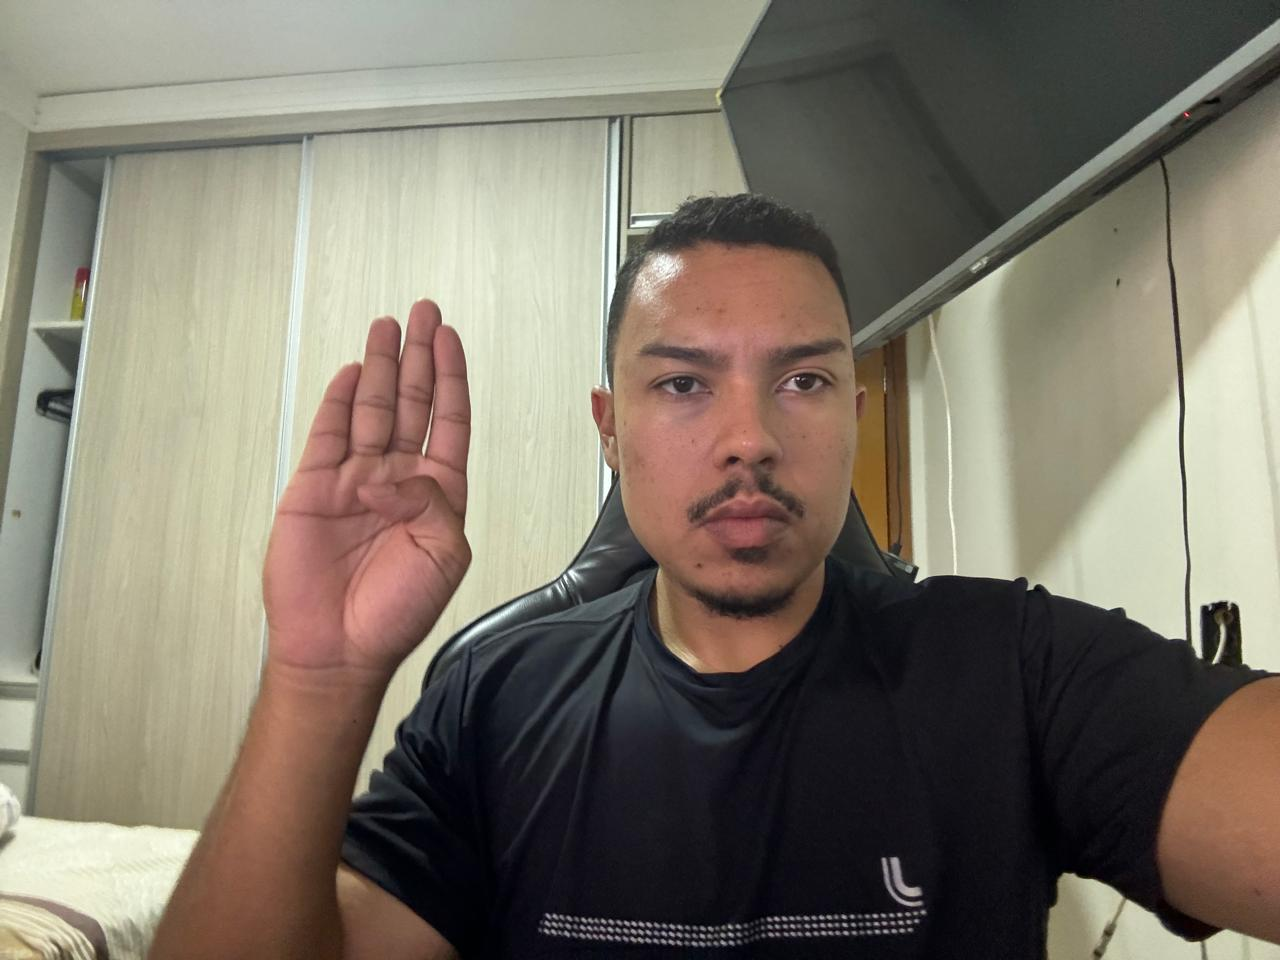b: (248, 290, 483, 681)
